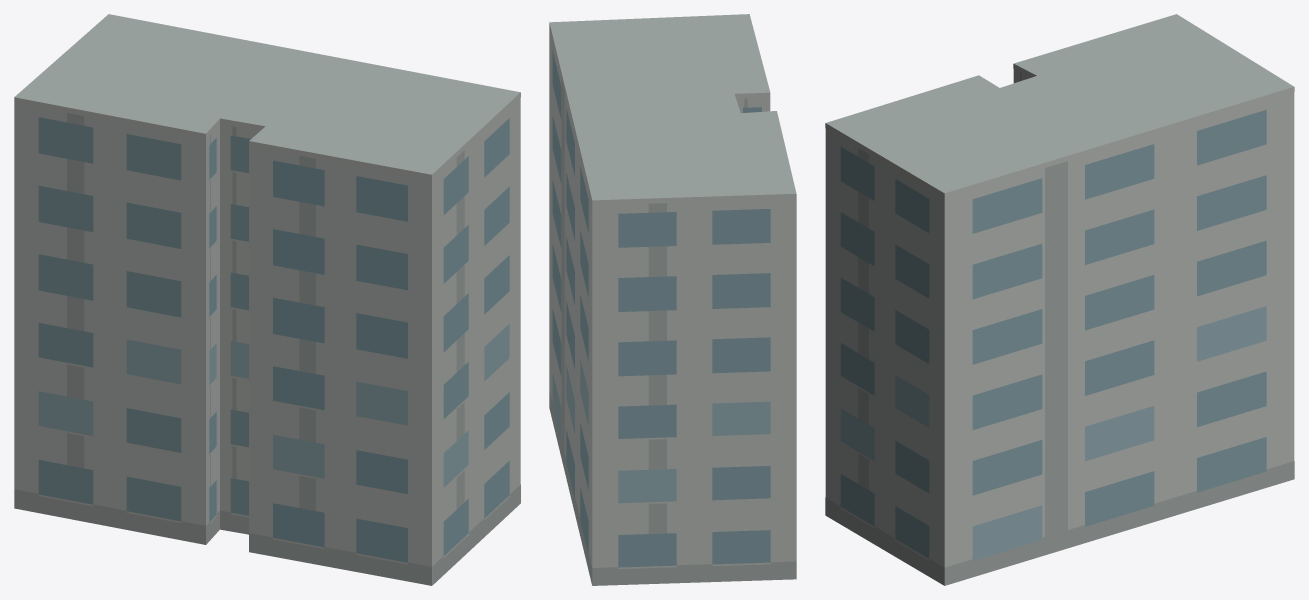
File: survey-upis-32805085.glb
The picture shows the model from 3 angles, left to right: view 1: azimuth 30°, elevation 25°; view 2: azimuth 150°, elevation 25°; view 3: azimuth 270°, elevation 25°; orthographic projection. The views are drawn at different scales.
Visible parts, largest first — view 1: survey-upis-32805085.tmp; view 2: survey-upis-32805085.tmp; view 3: survey-upis-32805085.tmp.
Part boxes in pixels (<box>): survey-upis-32805085.tmp: <box>14,14,520,585</box>; survey-upis-32805085.tmp: <box>549,14,796,585</box>; survey-upis-32805085.tmp: <box>825,14,1294,585</box>.
Bounding box in the file's own units: 17.94 × 18.3 × 19.82.
